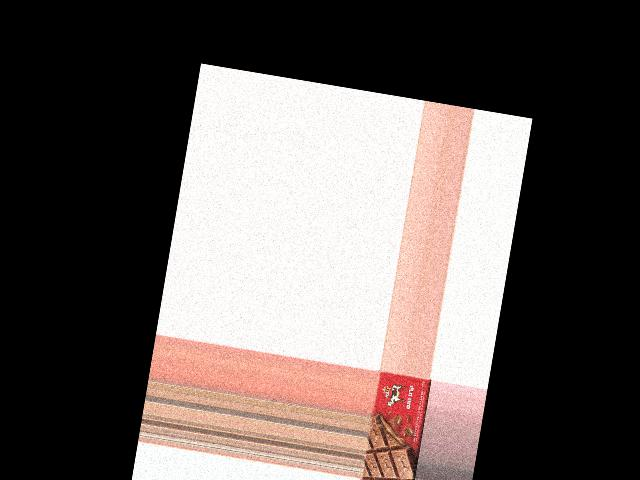chocolate: (360, 369, 430, 480)
